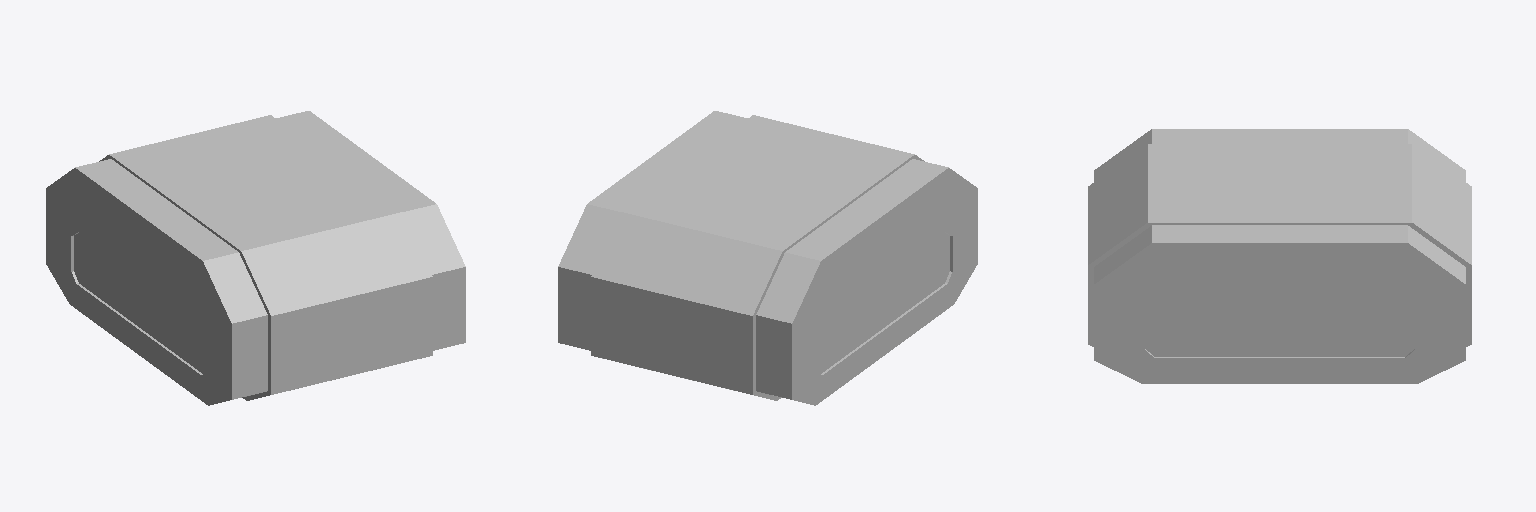
Rendered from wiiTank_body.obj.
The picture shows the model from 3 angles: view 1: azimuth 30°, elevation 25°; view 2: azimuth 150°, elevation 25°; view 3: azimuth 270°, elevation 25°; orthographic projection.
Parts seen in each view (by area): view 1: tank_body.005_Cube.011; view 2: tank_body.005_Cube.011; view 3: tank_body.005_Cube.011.
Boxes of the visible parts, box(x1,y1,x2,y2) form: tank_body.005_Cube.011: box(46, 111, 465, 405); tank_body.005_Cube.011: box(558, 111, 977, 405); tank_body.005_Cube.011: box(1088, 129, 1471, 383).
Size of the model in its own units: 3.48 by 2.07 by 4.95.